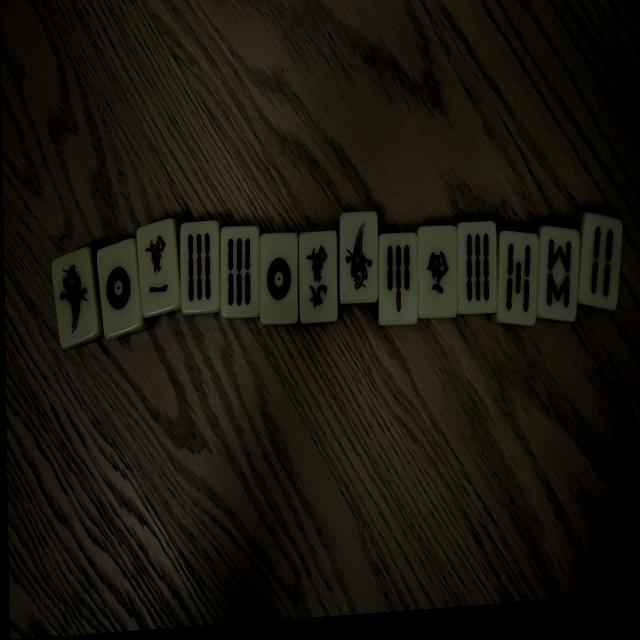m1: (134, 221, 179, 318)
m9: (298, 231, 339, 323)
s1: (51, 246, 99, 347), (338, 213, 378, 306)
s4: (578, 212, 624, 315)
s5: (495, 233, 538, 329)
s6: (220, 226, 259, 319)
s7: (376, 232, 417, 326)
s8: (538, 225, 582, 325)
s9: (456, 222, 496, 317), (179, 222, 218, 315)
t1: (96, 239, 142, 337), (259, 234, 300, 326)
west: (416, 225, 456, 318)
